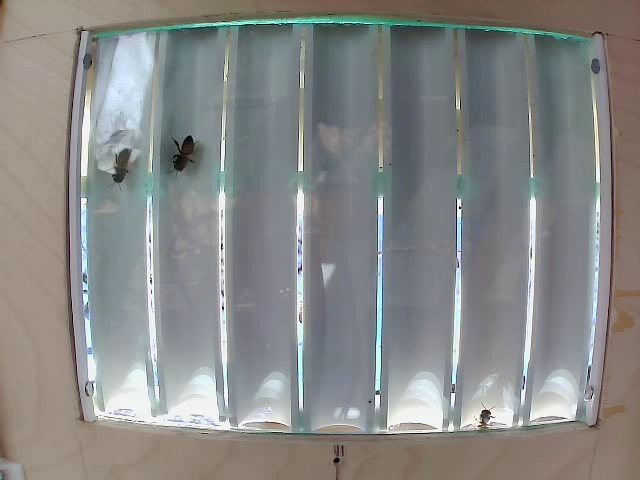bee: (171, 132, 215, 197), (94, 152, 146, 193)
